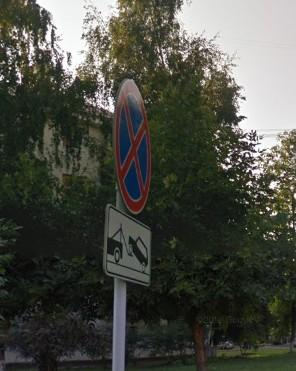No Parking: (111, 77, 156, 217)
